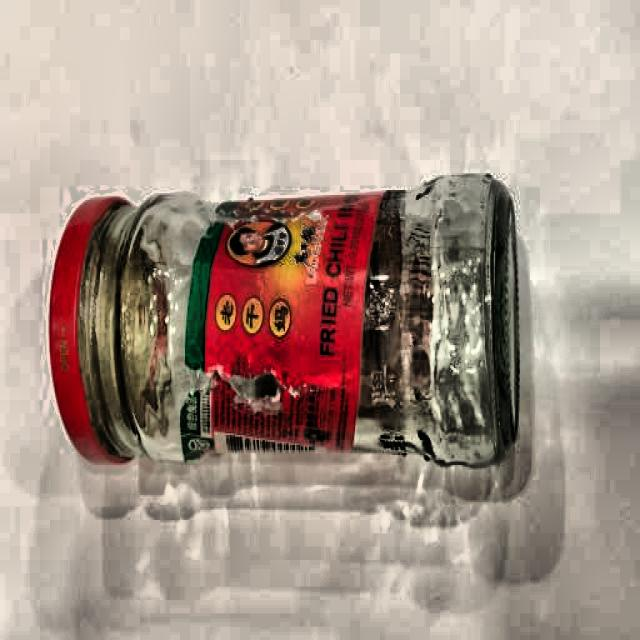glass: (47, 167, 518, 474)
